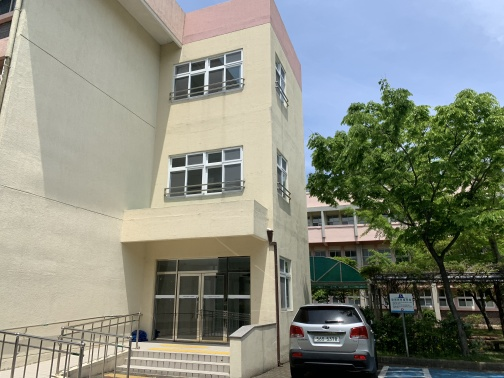College Of Education: (117, 14, 321, 377), (303, 183, 405, 252)
